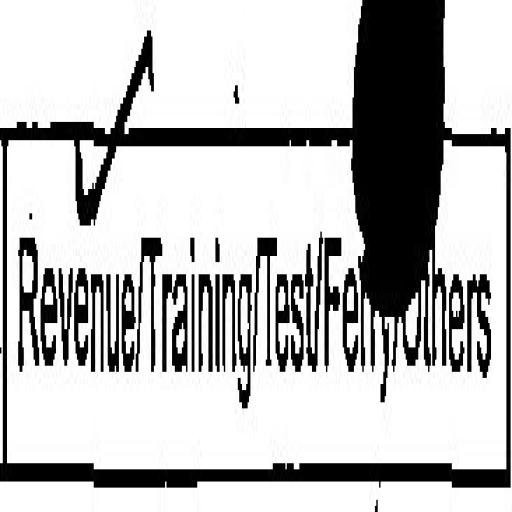check: (3, 0, 141, 501)
